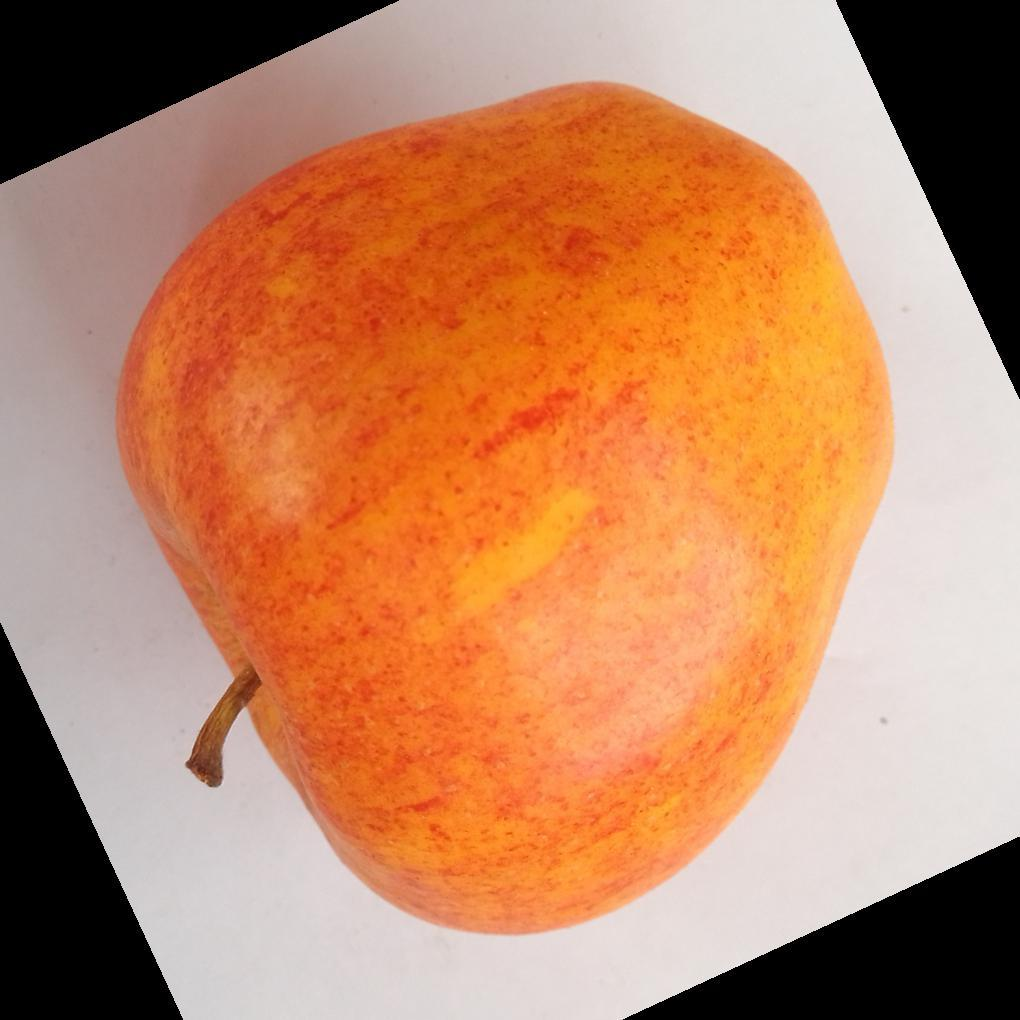FreshGuava: (112, 82, 896, 941)
